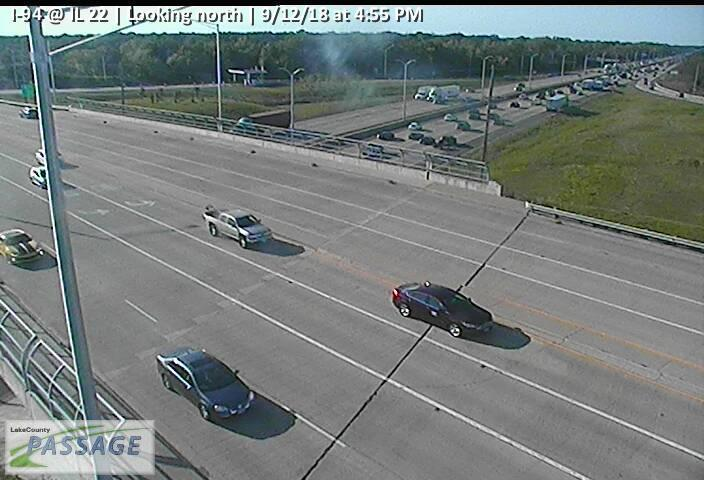Sedan: (156, 347, 255, 423), (392, 280, 493, 338), (1, 229, 45, 266), (28, 166, 52, 189), (376, 130, 394, 140)
Truck: (202, 205, 272, 249), (229, 108, 297, 139), (415, 84, 459, 102)
